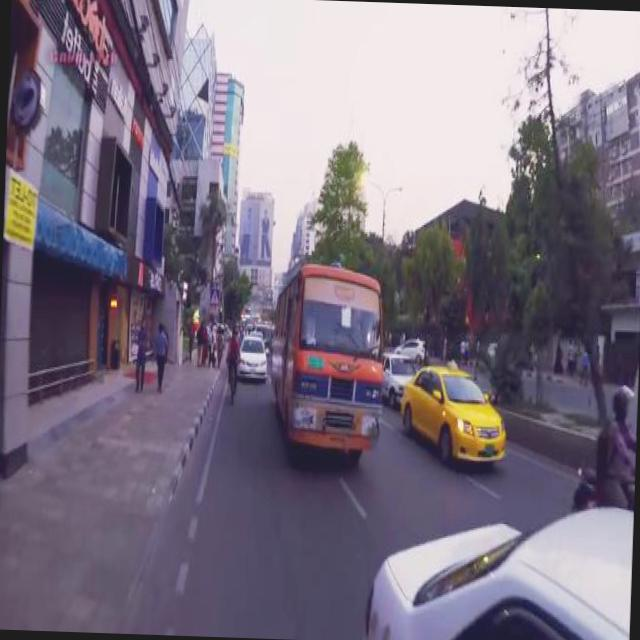bus: (271, 260, 390, 450)
car: (363, 494, 634, 640), (400, 360, 510, 460), (384, 348, 419, 405), (242, 331, 270, 371), (396, 336, 430, 356)
motorcycle: (572, 457, 636, 519)
